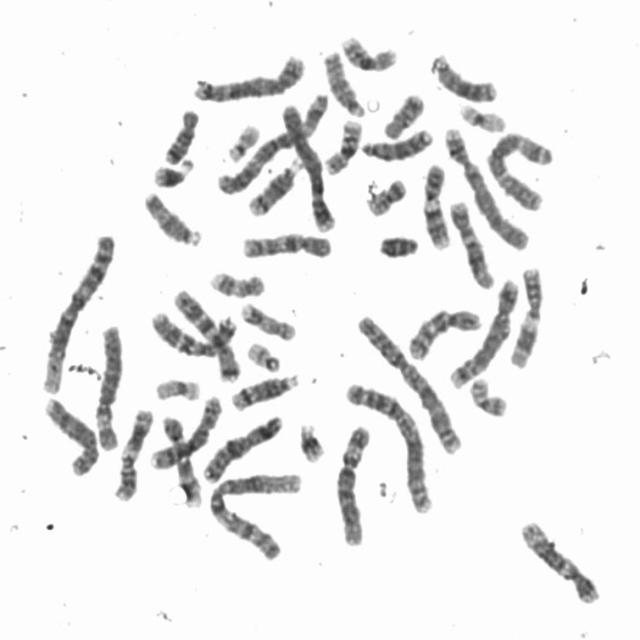A1: (36, 226, 120, 395), (203, 464, 306, 563)
A2: (351, 307, 464, 456), (339, 374, 437, 516)
A3: (212, 85, 333, 196), (482, 123, 558, 212)
B4: (439, 118, 534, 252), (276, 94, 339, 233)
B5: (445, 272, 521, 390), (188, 46, 309, 104)
C10: (402, 300, 485, 362), (237, 226, 336, 260)
C11: (505, 258, 548, 370), (109, 401, 156, 503)
C12: (514, 512, 604, 606), (444, 193, 499, 290)
C6: (330, 416, 376, 549), (89, 316, 126, 452)
C7: (169, 281, 243, 383), (145, 302, 241, 359)
C8: (145, 388, 225, 470), (39, 389, 103, 478)
C9: (156, 408, 205, 508), (418, 156, 454, 251)
D13: (426, 45, 502, 104), (356, 121, 435, 162)
D14: (243, 152, 306, 218), (226, 365, 304, 412)
D15: (138, 184, 205, 249), (318, 43, 368, 119)
E16: (336, 27, 401, 73), (318, 112, 364, 176)
E17: (236, 294, 299, 342), (204, 263, 269, 299)
E18: (158, 101, 202, 166), (378, 84, 429, 140)
F19: (454, 95, 510, 134), (149, 370, 204, 403)
F20: (362, 170, 410, 218), (464, 370, 511, 418)
G21: (148, 151, 196, 190), (294, 416, 329, 464)
G22: (222, 115, 264, 163), (242, 334, 284, 374)
X: (198, 407, 286, 485)
Y: (374, 227, 422, 260)
